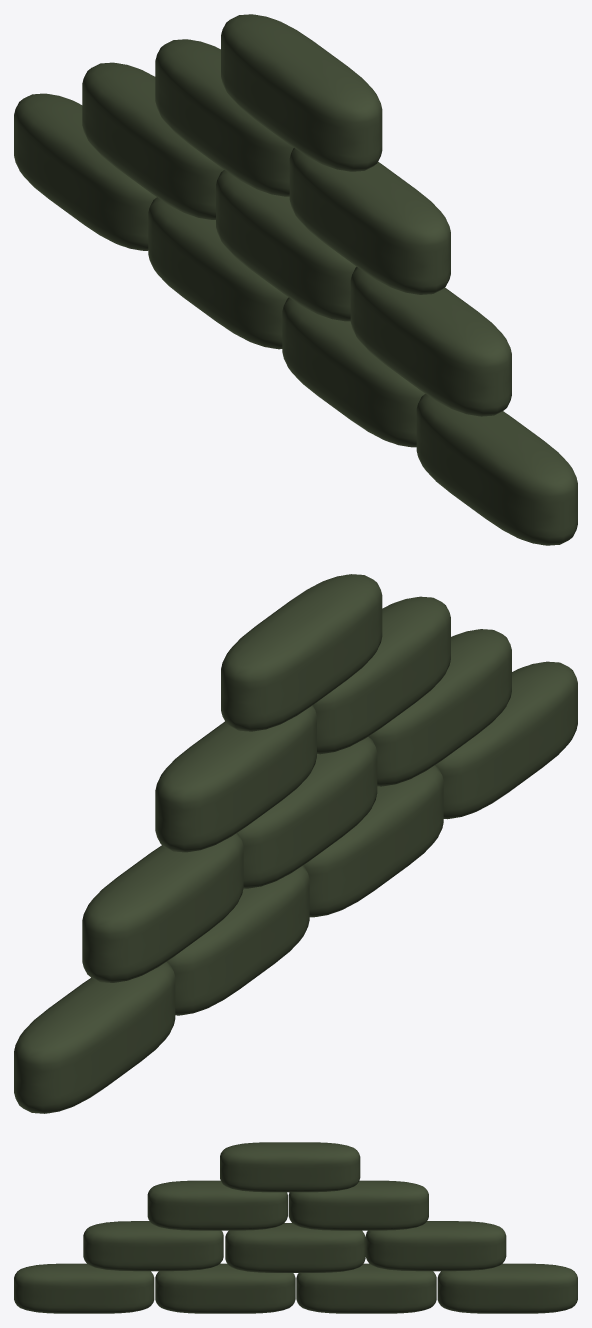
Rendered from Wall 3.fbx.
3 views of the same model, one above another, from view 1: azimuth 30°, elevation 25°; view 2: azimuth 150°, elevation 25°; view 3: azimuth 270°, elevation 25° (orthographic). The views are drawn at different scales.
Parts seen in each view (by area): view 1: Cube; view 2: Cube; view 3: Cube.
Part boxes in pixels (x1,y1,x2,y2): Cube: (14, 14, 577, 545); Cube: (14, 574, 577, 1113); Cube: (14, 1142, 577, 1313).
Size of the model in its own units: 81.86 by 369 by 1155.
